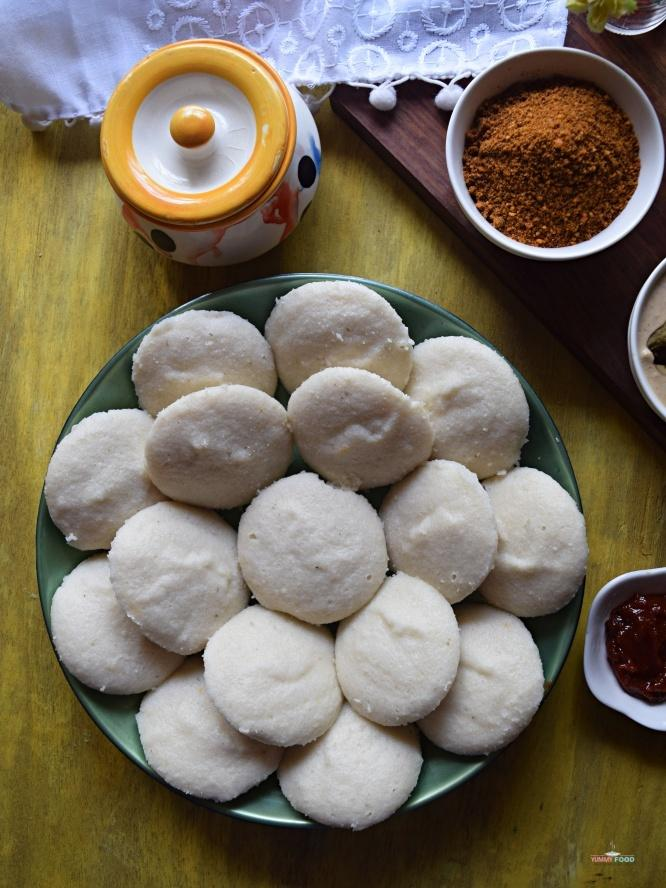idli: (81, 298, 542, 782)
